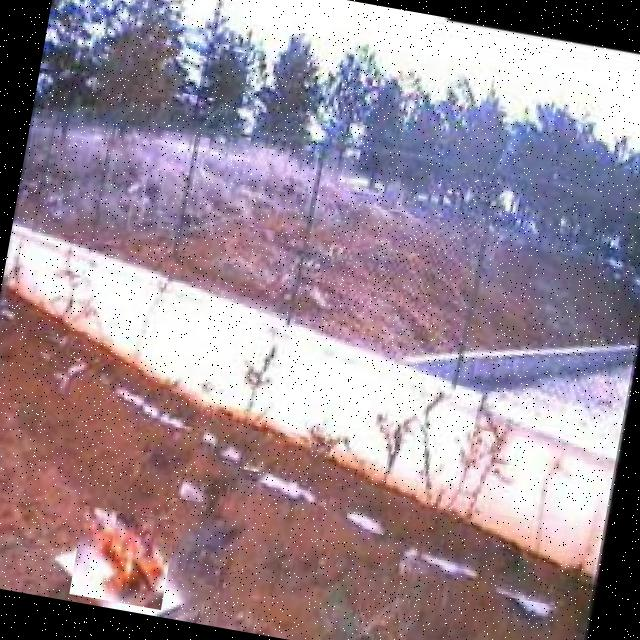fire: (69, 505, 176, 610)
